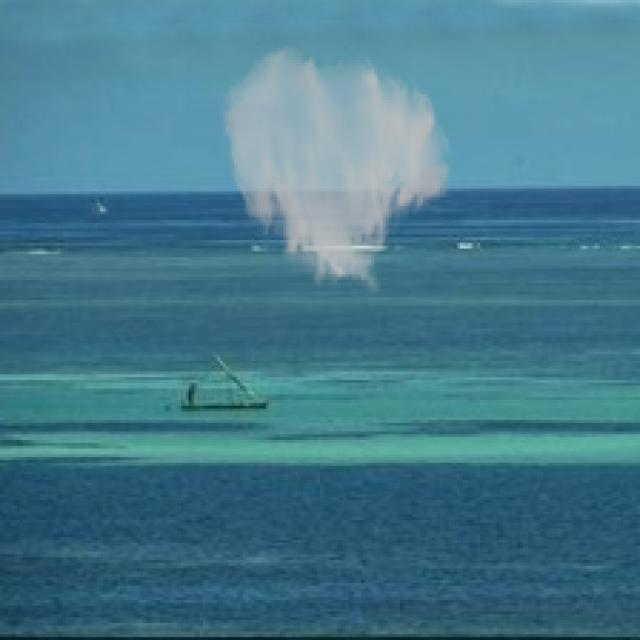smoke: (220, 43, 454, 297)
